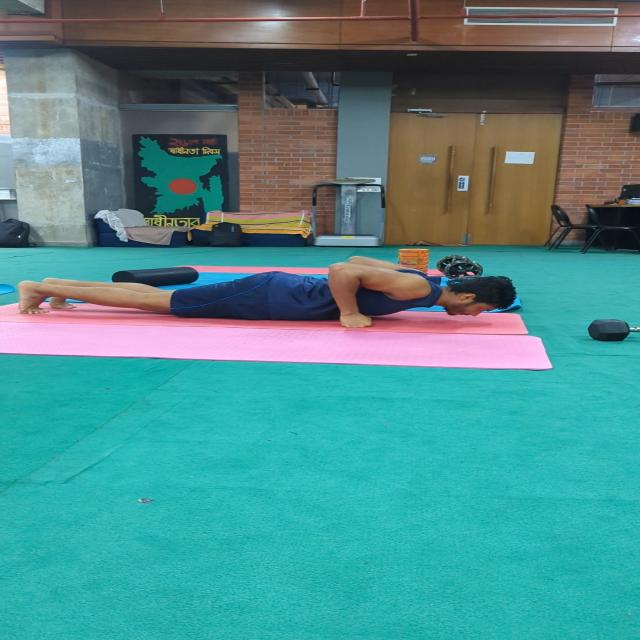Normal_PushUps: (6, 255, 533, 345)
